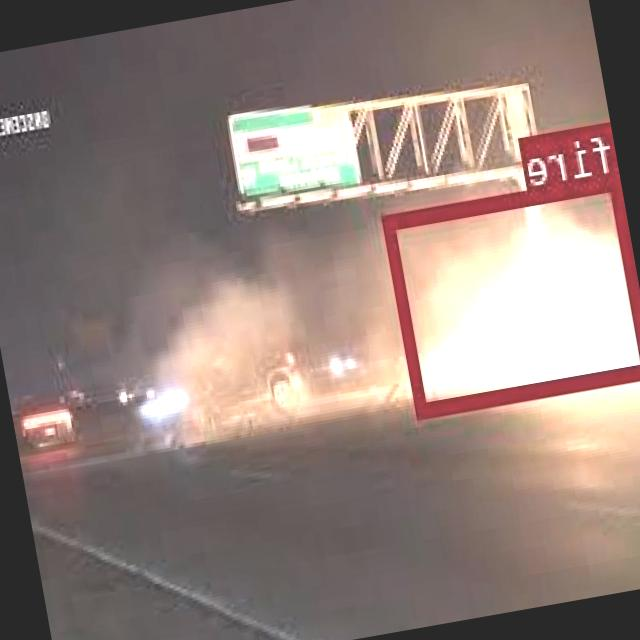fire: (385, 170, 640, 413)
